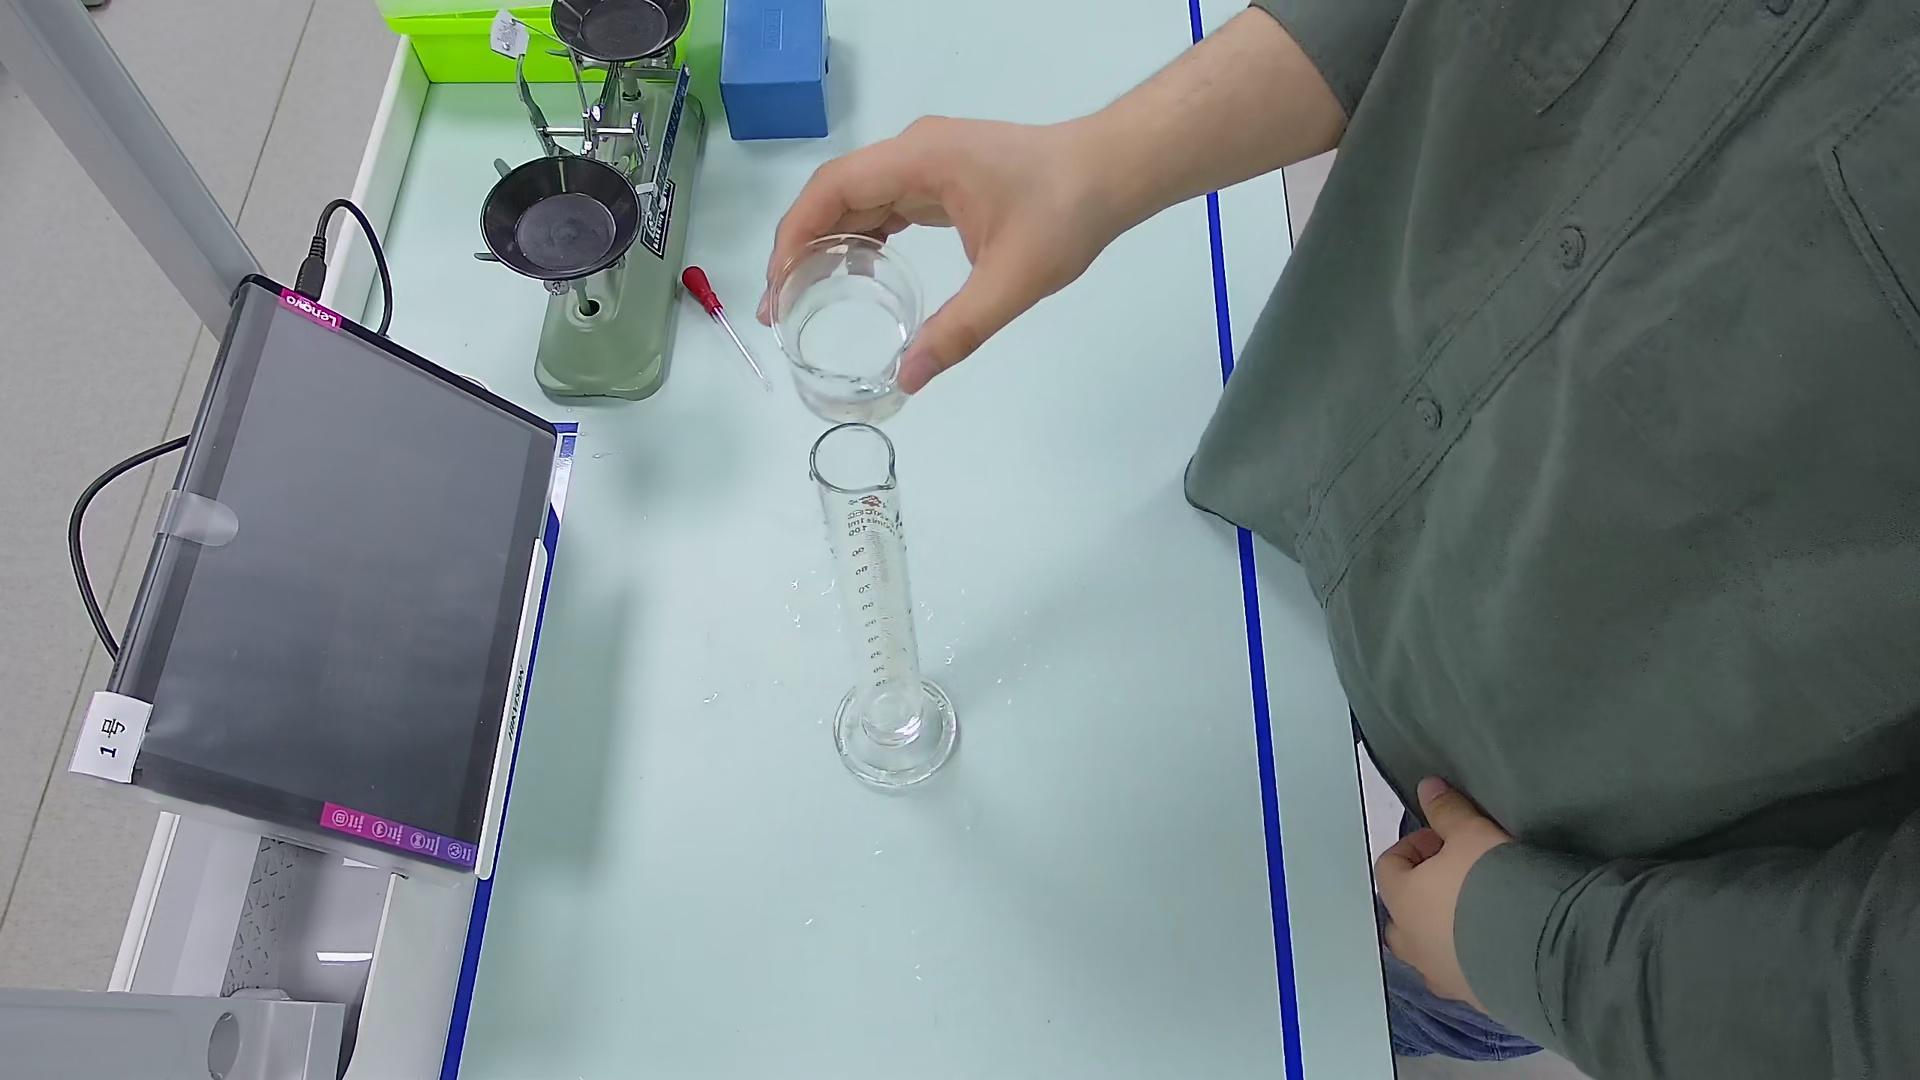bei: (775, 233, 922, 425)
diguan: (680, 270, 765, 397)
diguantou: (688, 264, 723, 320)
hand: (762, 111, 1100, 386), (1354, 770, 1513, 1021)
liangdi: (825, 674, 963, 781)
liangtong: (807, 419, 953, 782)
tuo: (483, 160, 646, 285), (547, 1, 700, 65)
